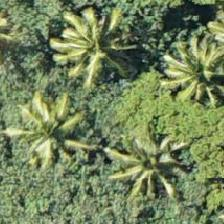coconut_tree: (104, 122, 194, 212), (3, 88, 93, 178), (42, 3, 132, 93), (161, 22, 223, 112)
